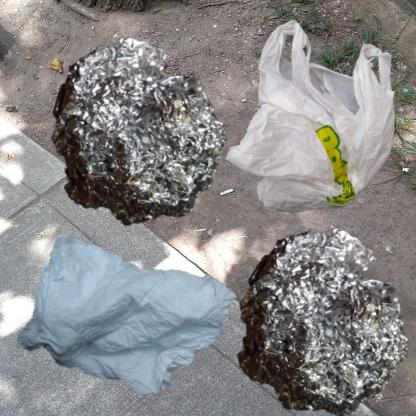aluminio: (10, 10, 286, 296), (213, 213, 416, 416)
bolsa: (213, 10, 416, 265)
papel: (10, 213, 278, 416)
